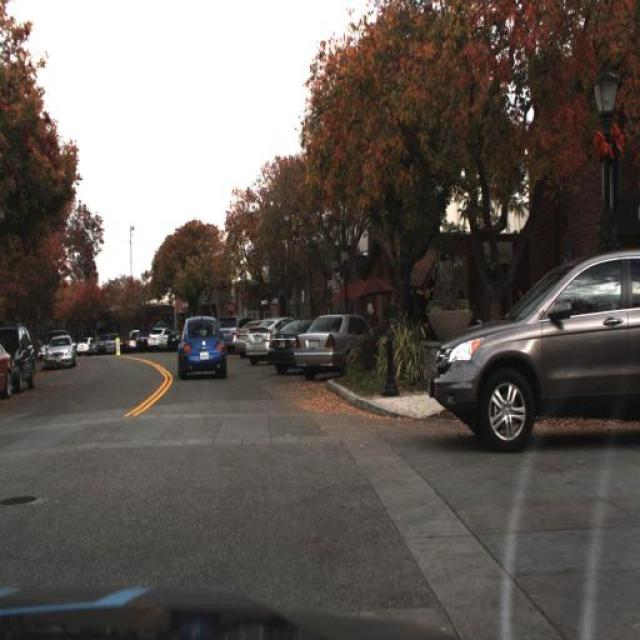car: (426, 244, 635, 451), (295, 312, 376, 382), (176, 308, 230, 384), (1, 323, 37, 392), (244, 308, 288, 364), (271, 314, 310, 358), (44, 333, 77, 368), (0, 343, 12, 401), (147, 324, 167, 350), (78, 335, 93, 355)
trafficLight: (364, 296, 378, 346)
